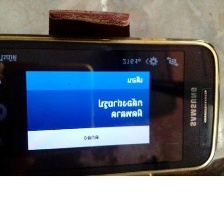phone: (0, 30, 221, 181)
